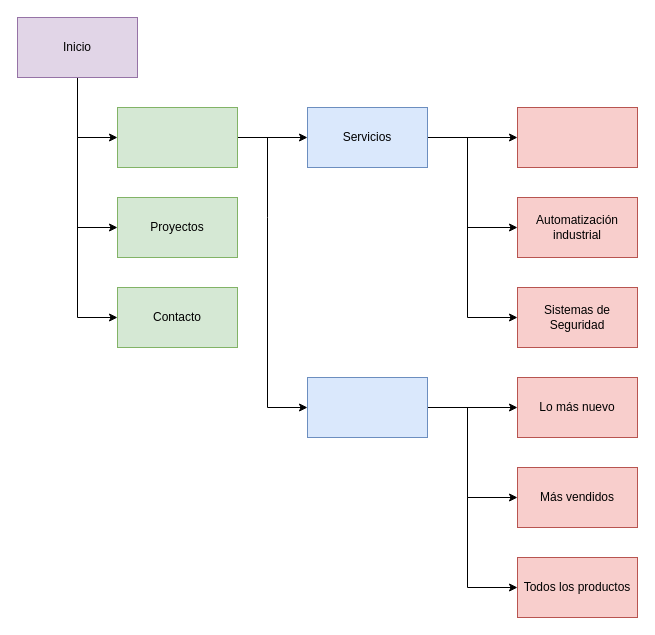
This 655x635 diagram has some shape labels left out. Here are the shapes that lost their labels. From the top down, the centre of each, then its label:
At (x=177, y=137): "Soluciones".
At (x=577, y=137): "Domotica e Inmotica".
At (x=367, y=407): "Productos".
